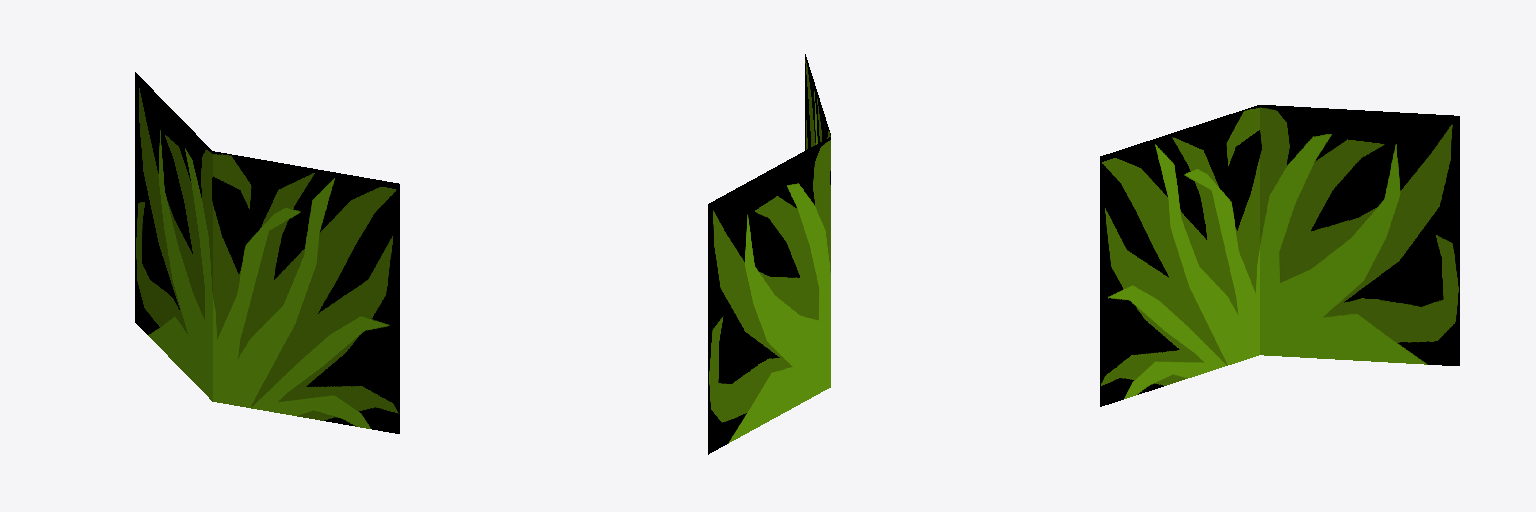
3 renders of one model, left to right at view 1: azimuth 30°, elevation 25°; view 2: azimuth 150°, elevation 25°; view 3: azimuth 270°, elevation 25°, orthographic.
Parts seen in each view (by area): view 1: pPlane1; view 2: pPlane1; view 3: pPlane1.
Boxes of the visible parts, x1=… form: pPlane1: x1=135, y1=72, x2=399, y2=433; pPlane1: x1=708, y1=54, x2=830, y2=454; pPlane1: x1=1100, y1=105, x2=1459, y2=406.
Bounding box in the file's own units: 14.25 × 31.95 × 41.68.
1 materials, 1 textured.